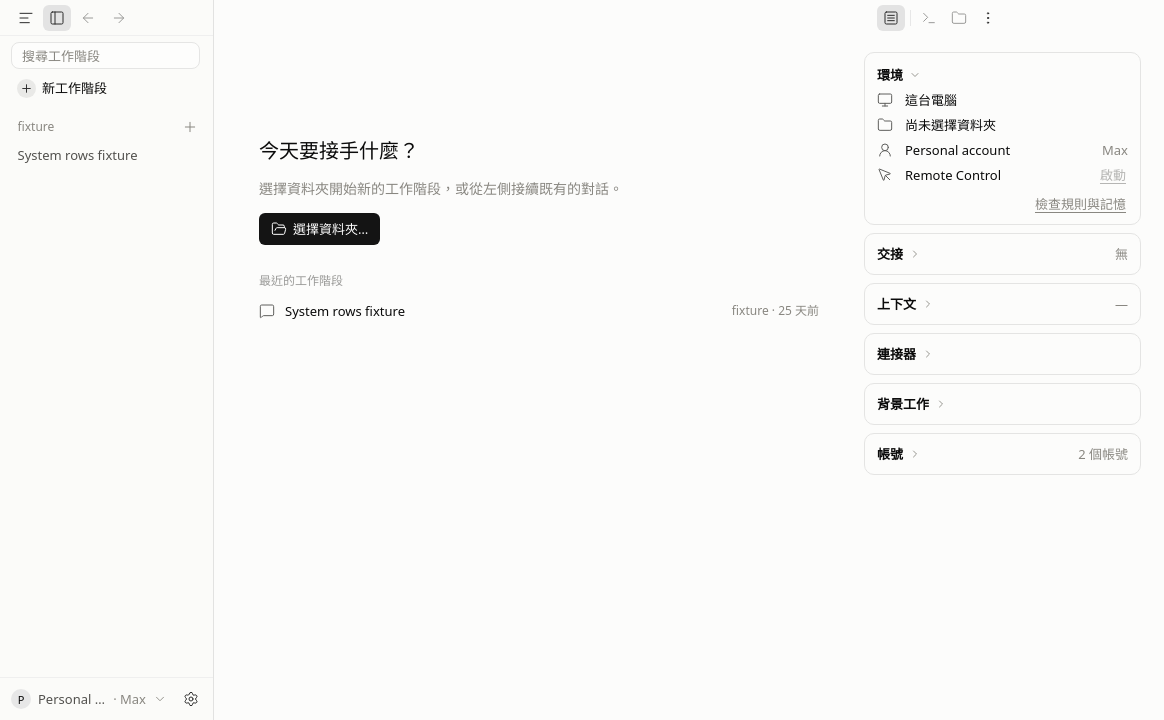
it: system rows › uses the Chinese labels in a Chinese UI
This screenshot has width=1164, height=720.
Click the button "System rows fixture" at (106, 155), box [7, 141, 206, 169]
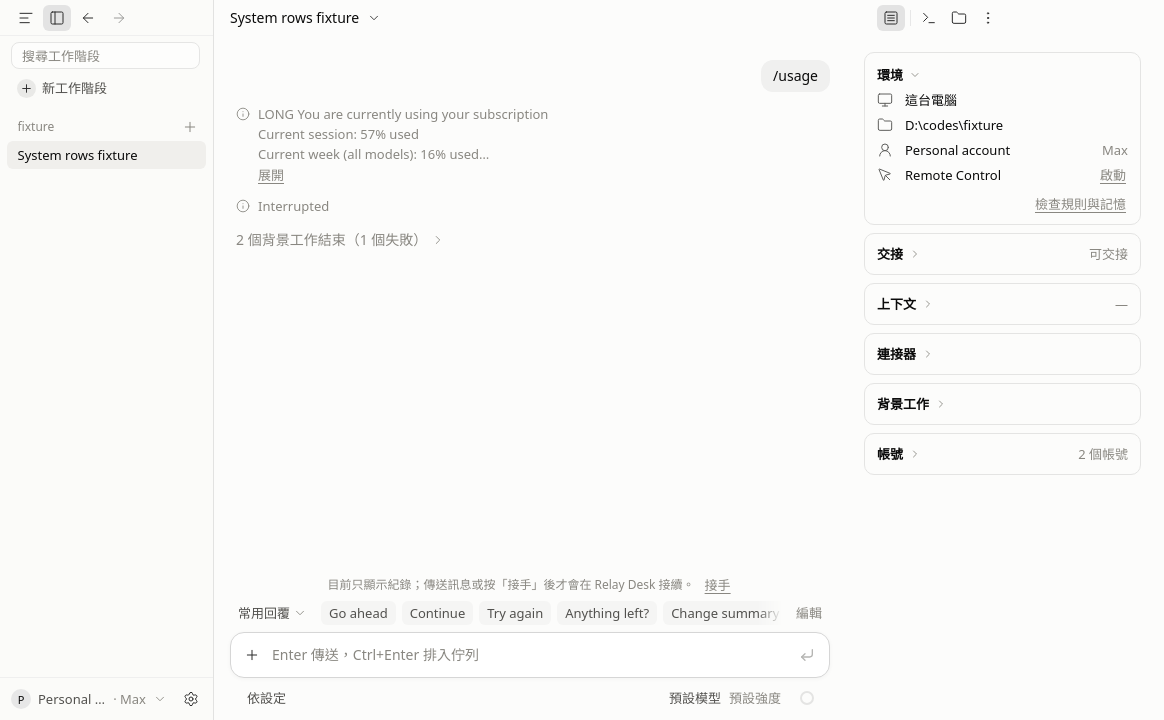
Click the button "2 個背景工作結束（1 個失敗）" at (341, 240), box [230, 228, 451, 252]
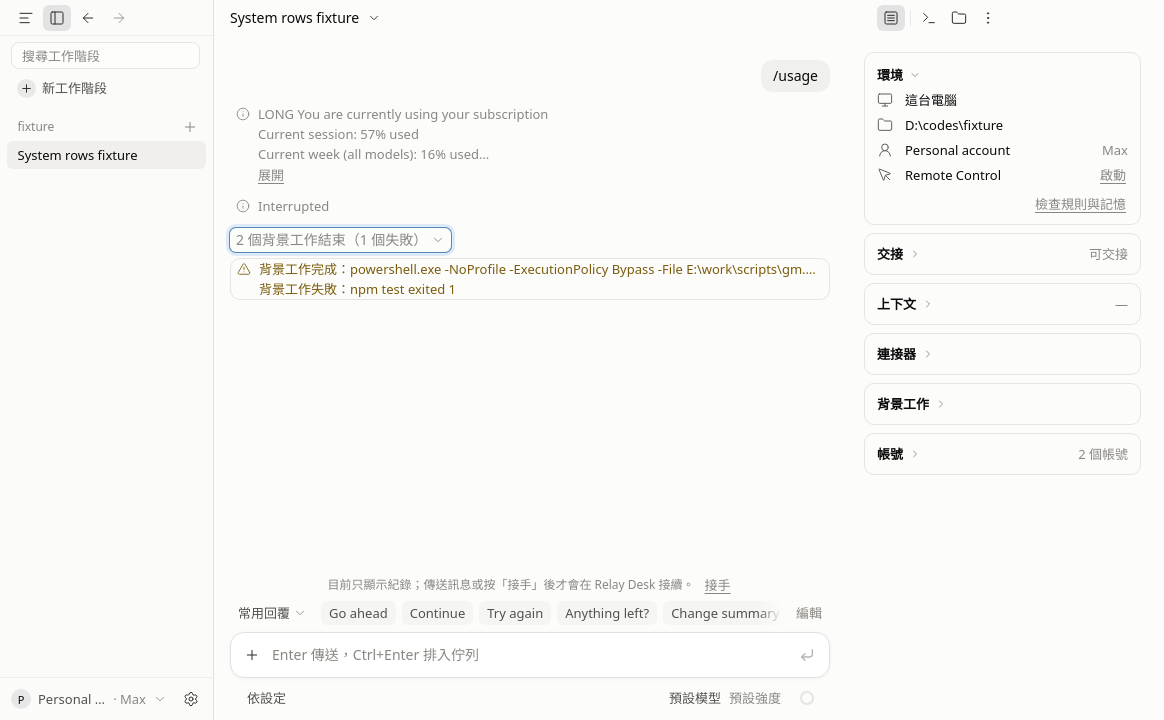
Now the button "展開" is shown, box [256, 166, 286, 184]
Now the text with test id "task-line" reads "背景工作失敗：npm test exited 1", box [259, 280, 456, 298]
